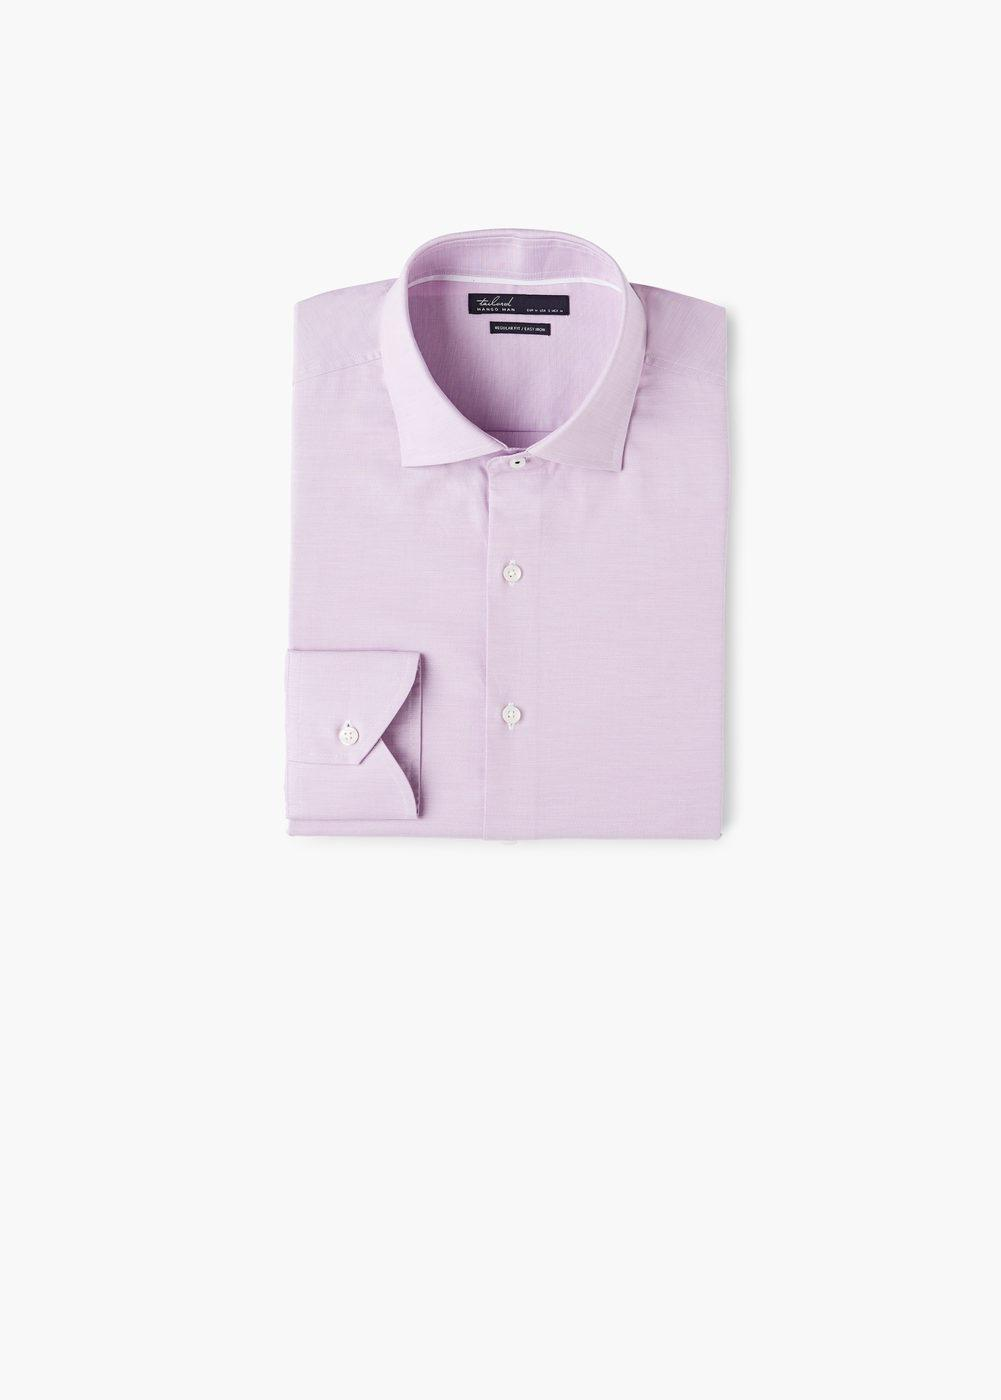teeshirt: (282, 228, 804, 878)
